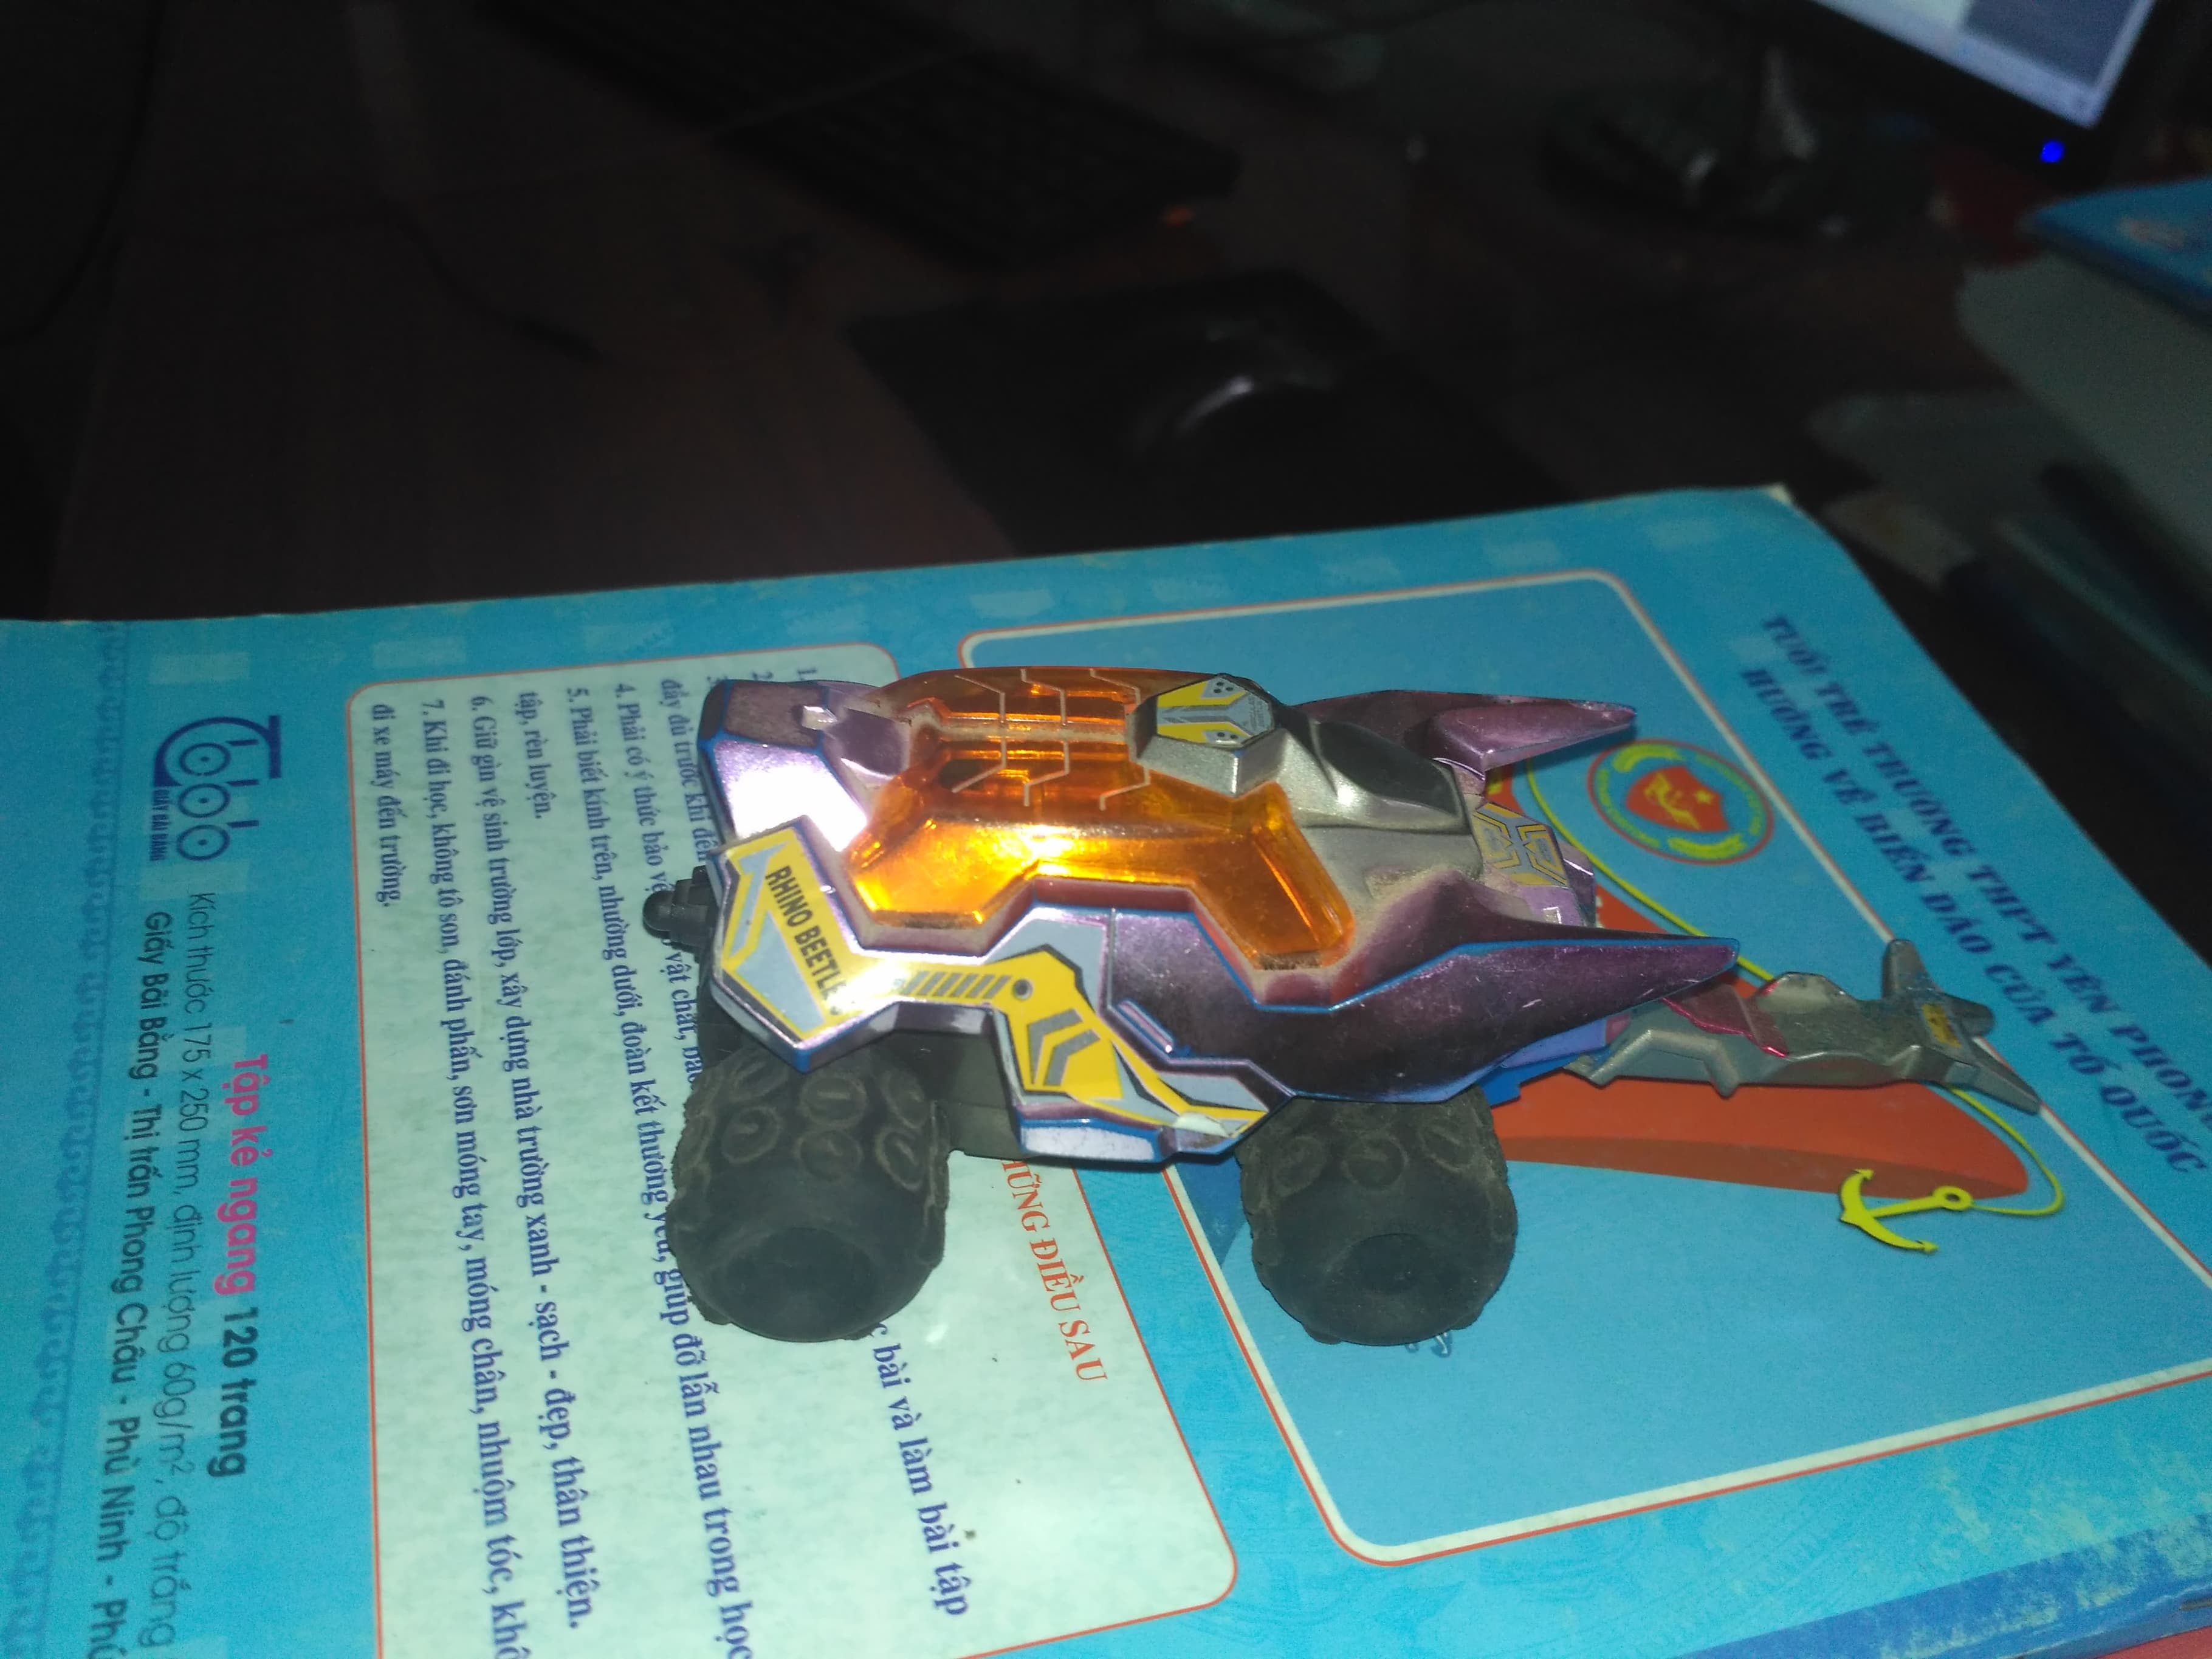rhino: (636, 671, 2041, 1352)
